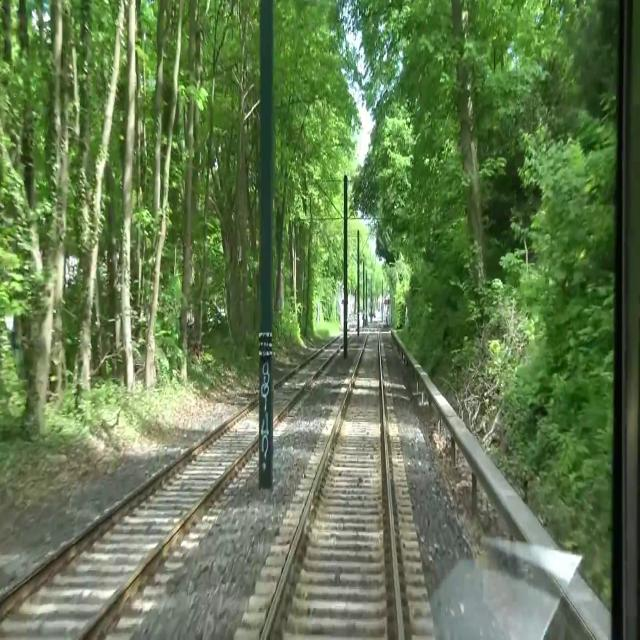rail-track: (0, 399, 258, 639), (267, 324, 398, 639), (273, 334, 343, 415)
